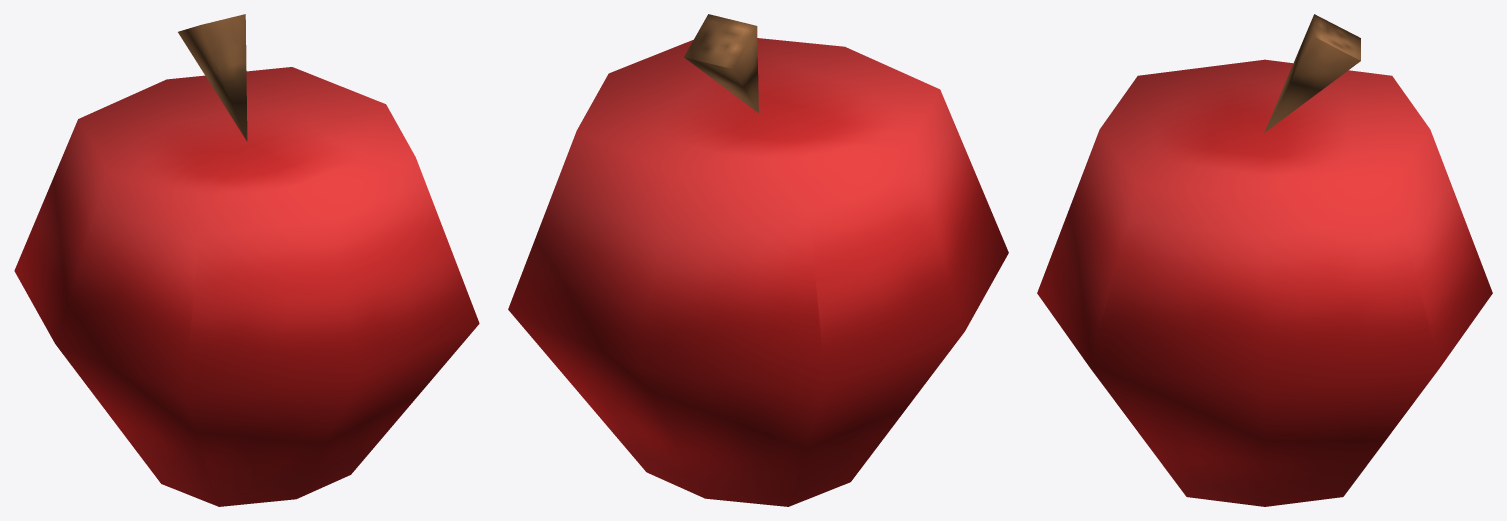
The model's file is Apple_MESH.fbx.
3 renders of one model, left to right at view 1: azimuth 30°, elevation 25°; view 2: azimuth 150°, elevation 25°; view 3: azimuth 270°, elevation 25°, orthographic. The views are drawn at different scales.
Visible parts, largest first — view 1: Cube.001; view 2: Cube.001; view 3: Cube.001.
Boxes of the visible parts, x1,y1,x2,y2 form: Cube.001: (14, 14, 479, 506); Cube.001: (508, 14, 1008, 506); Cube.001: (1037, 14, 1492, 506).
Size of the model in its own units: 260 by 276 by 260.
Materials: 1 (1 with a texture image).
